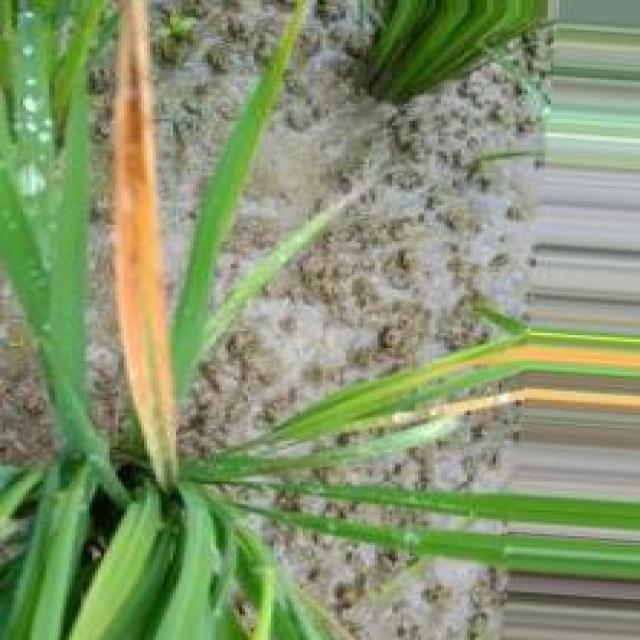Rice Tungro: (115, 0, 178, 488)
